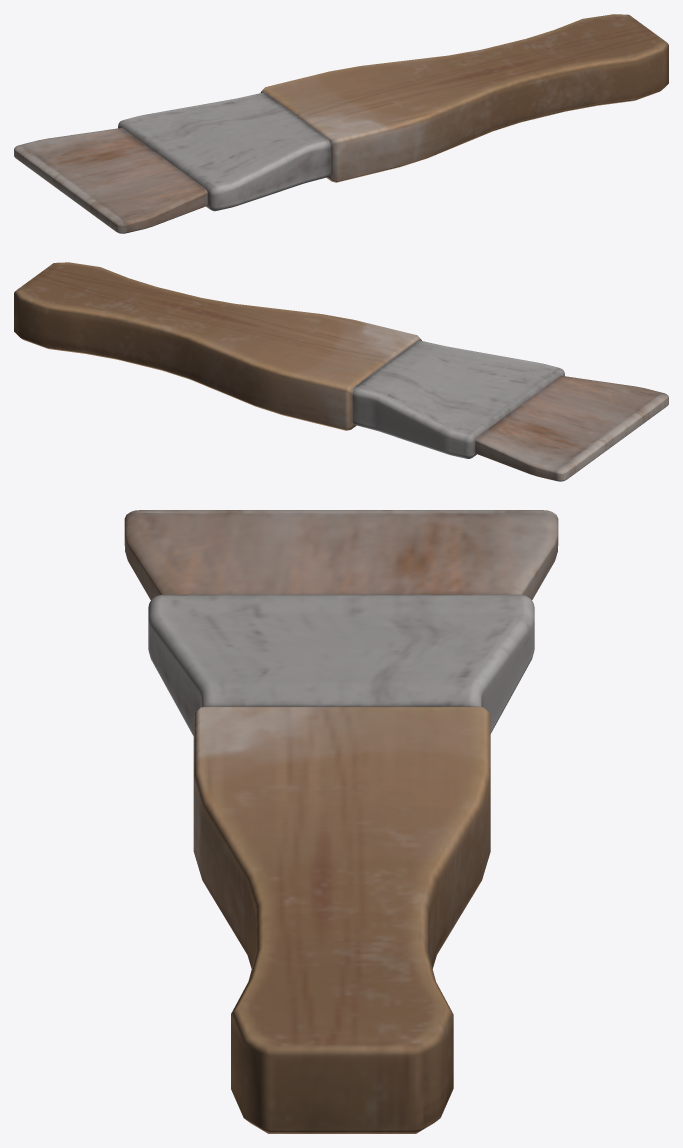
File: SM_PaintBrush_01.fbx
3 renders of one model, top to bottom at view 1: azimuth 30°, elevation 25°; view 2: azimuth 150°, elevation 25°; view 3: azimuth 270°, elevation 25°, orthographic. The views are drawn at different scales.
Visible parts, largest first — view 1: SM_PaintBrush_01_LOD0; view 2: SM_PaintBrush_01_LOD0; view 3: SM_PaintBrush_01_LOD0.
Boxes of the visible parts, x1=… form: SM_PaintBrush_01_LOD0: x1=14, y1=14, x2=668, y2=233; SM_PaintBrush_01_LOD0: x1=14, y1=262, x2=668, y2=481; SM_PaintBrush_01_LOD0: x1=124, y1=510, x2=558, y2=1133.
Bounding box in the file's own units: 38.59 × 12.39 × 2.77.
1 material, 1 textured.
